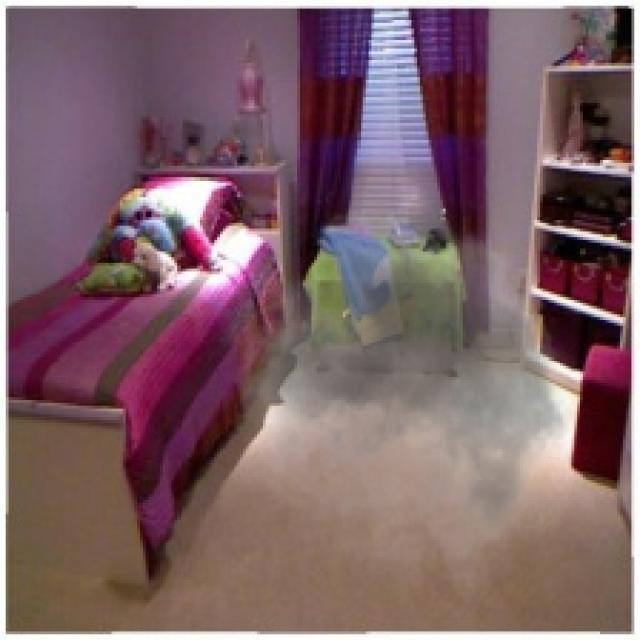Smoke: (234, 191, 592, 606)
